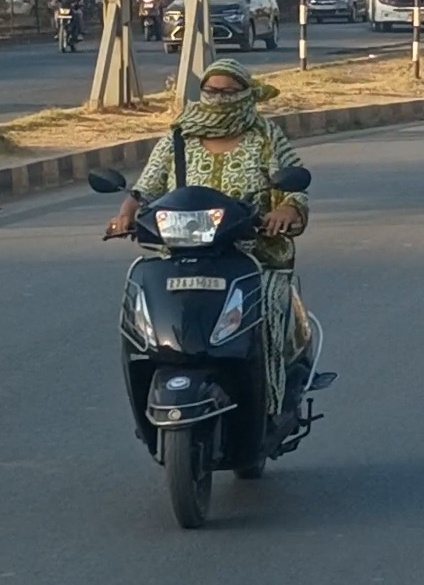BikeWithRider: (84, 56, 341, 532)
NoHelmet: (194, 57, 260, 132)
